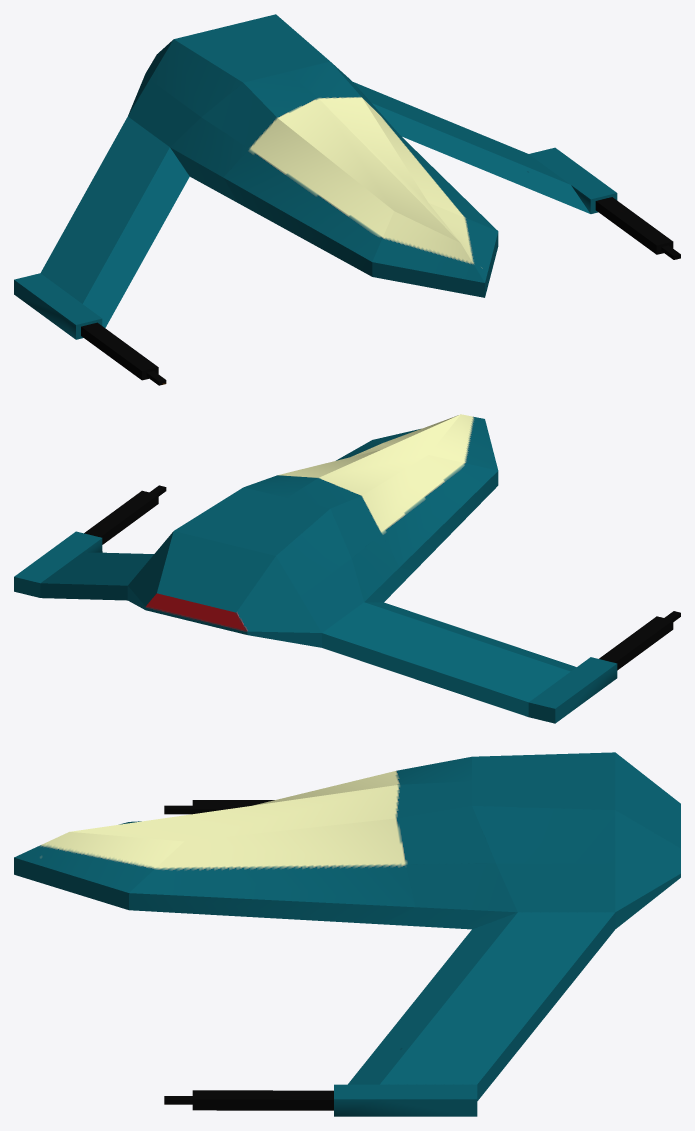
Rendered from spaceship.obj.
3 views of the same model, one above another, from view 1: azimuth 30°, elevation 25°; view 2: azimuth 150°, elevation 25°; view 3: azimuth 270°, elevation 25° (orthographic). The views are drawn at different scales.
Visible parts, largest first — view 1: Cube.002; view 2: Cube.002; view 3: Cube.002.
Boxes of the visible parts, <box> form: Cube.002: <box>14,14,680,385</box>; Cube.002: <box>14,414,680,723</box>; Cube.002: <box>14,752,680,1116</box>.
Bounding box in the file's own units: 6.91 × 1.93 × 6.38.
1 material, 1 textured.
